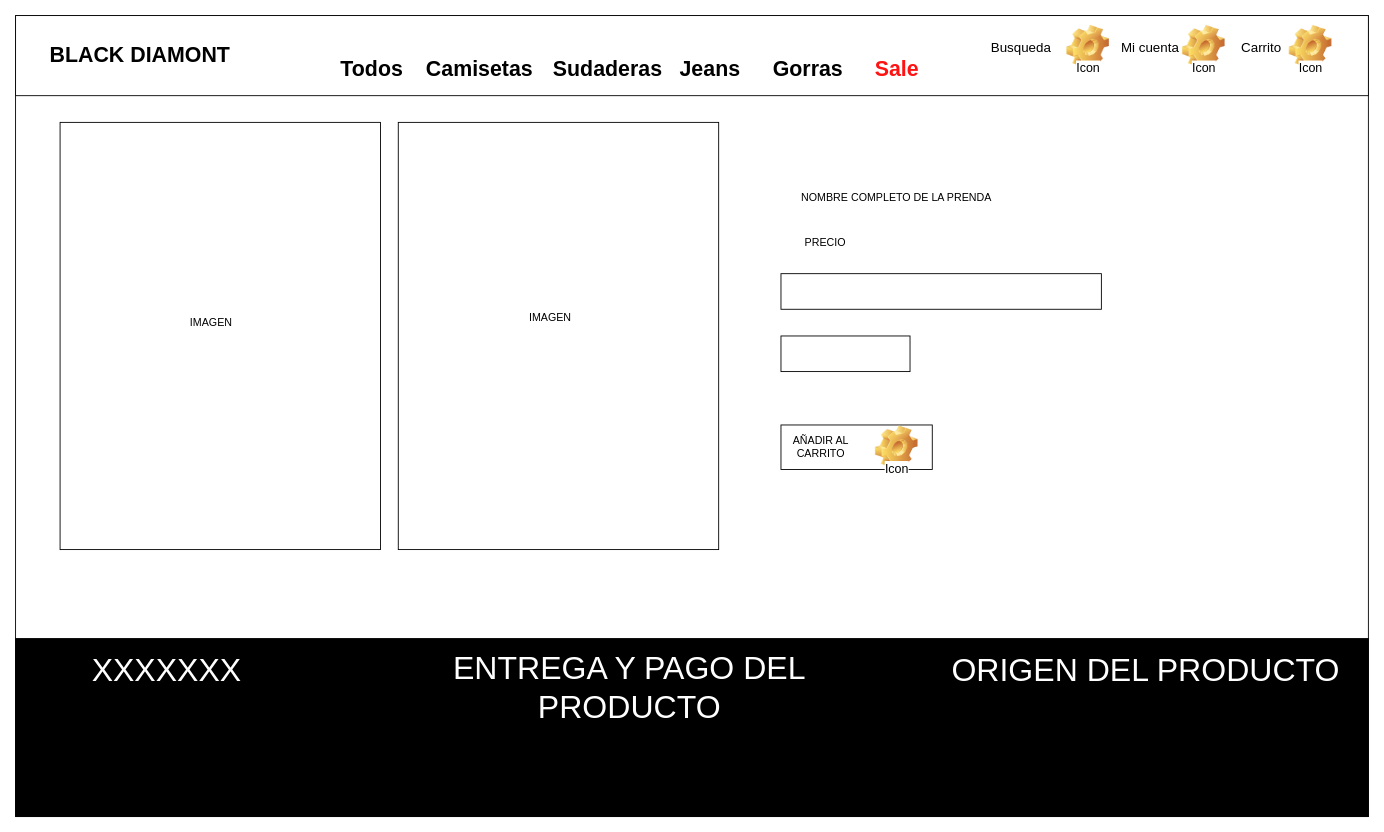
This 1384x832 diagram has some shape labels left out. Each missing label, with the box of its shape:
COLORES DISPONIBLES: (780, 335, 910, 372)
SELECCIONE SU TALLA: (780, 273, 1101, 309)
